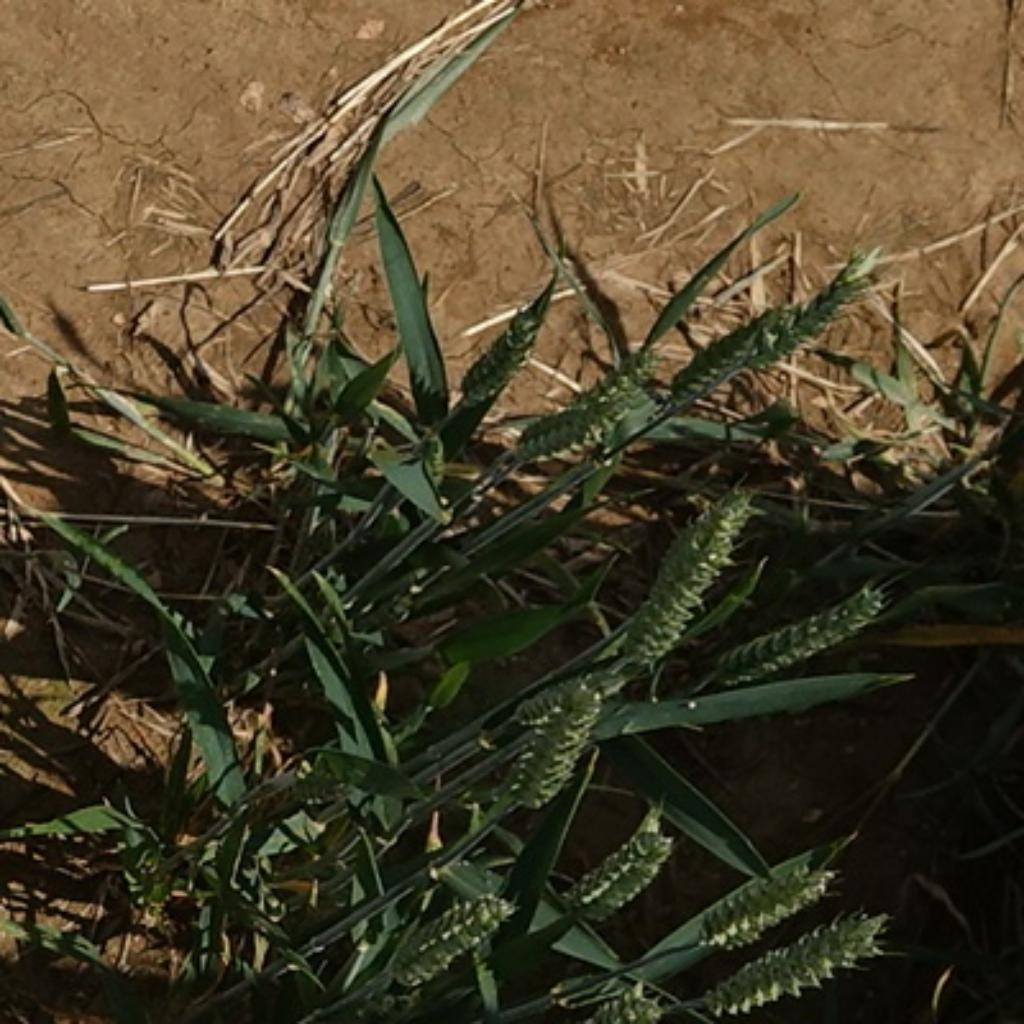0-0: (614, 476, 757, 668), (701, 906, 896, 1016), (719, 577, 897, 688), (379, 871, 528, 994), (758, 238, 891, 361), (686, 847, 832, 942), (657, 303, 780, 405), (570, 808, 680, 911), (498, 695, 585, 809), (450, 304, 545, 399), (502, 655, 630, 724), (505, 404, 619, 472), (559, 337, 659, 410), (280, 746, 355, 824), (569, 979, 666, 1024)
